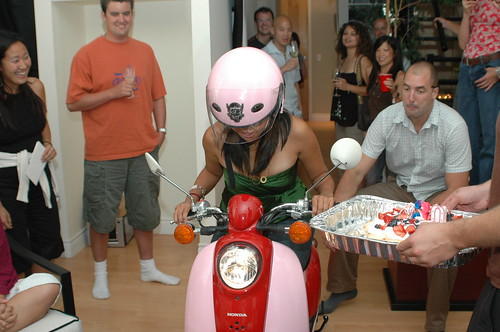helmet: (201, 42, 286, 139)
